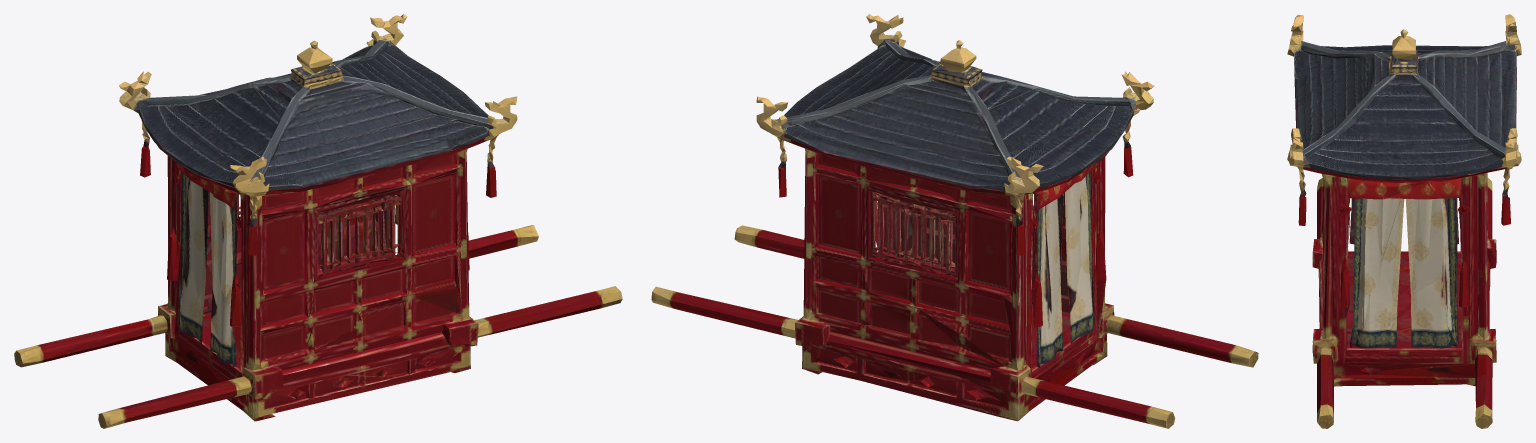
Rendered from gama.glb.
3 renders of one model, left to right at view 1: azimuth 30°, elevation 25°; view 2: azimuth 150°, elevation 25°; view 3: azimuth 270°, elevation 25°, orthographic. The views are drawn at different scales.
Bounding box in the file's own units: 1.9 × 1.15 × 0.789.
Materials: 1 (1 with a texture image).
